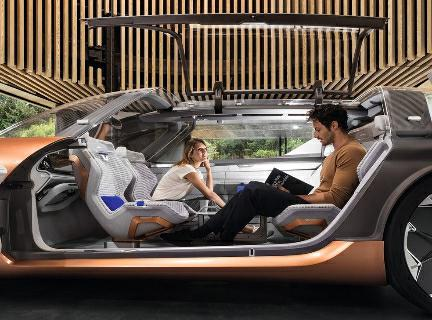雷诺-Symbioz: (2, 82, 432, 307)
